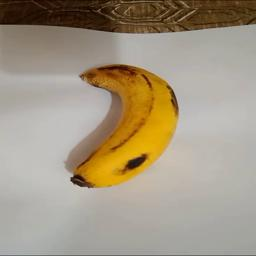Pear Rotten: (67, 62, 181, 189)
